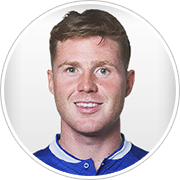smile: (72, 99, 104, 115)
